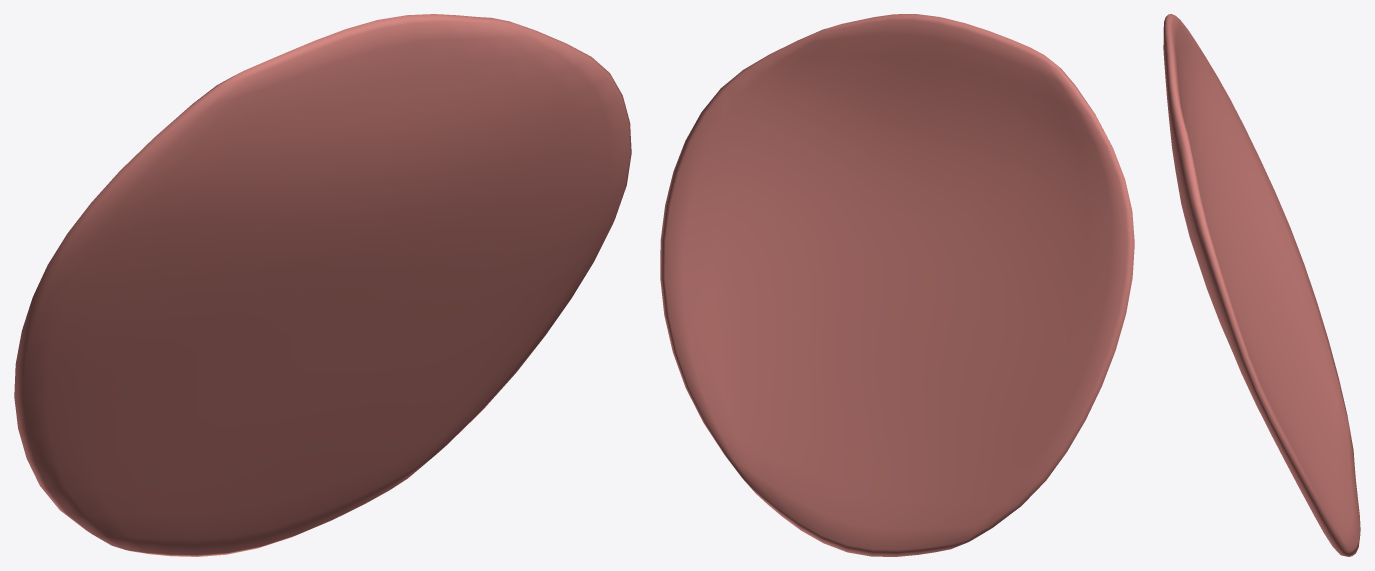
3 views of the same model, side by side, from view 1: azimuth 30°, elevation 25°; view 2: azimuth 150°, elevation 25°; view 3: azimuth 270°, elevation 25° (orthographic). The views are drawn at different scales.
Visible parts, largest first — view 1: ZA_36c1325d2bb2aaca; view 2: ZA_36c1325d2bb2aaca; view 3: ZA_36c1325d2bb2aaca.
Boxes of the visible parts, x1,y1,x2,y2 form: ZA_36c1325d2bb2aaca: (14,14,631,556); ZA_36c1325d2bb2aaca: (660,14,1134,556); ZA_36c1325d2bb2aaca: (1163,14,1360,556).
Bounding box in the file's own units: 0.021 × 0.0204 × 0.00752.
